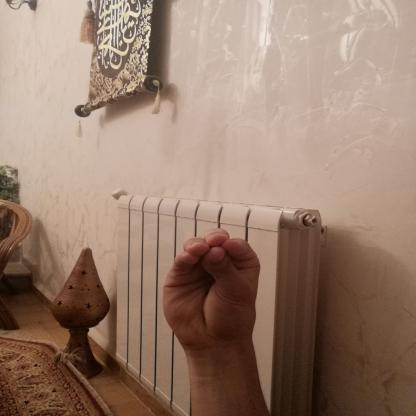HA: (144, 220, 278, 362)
